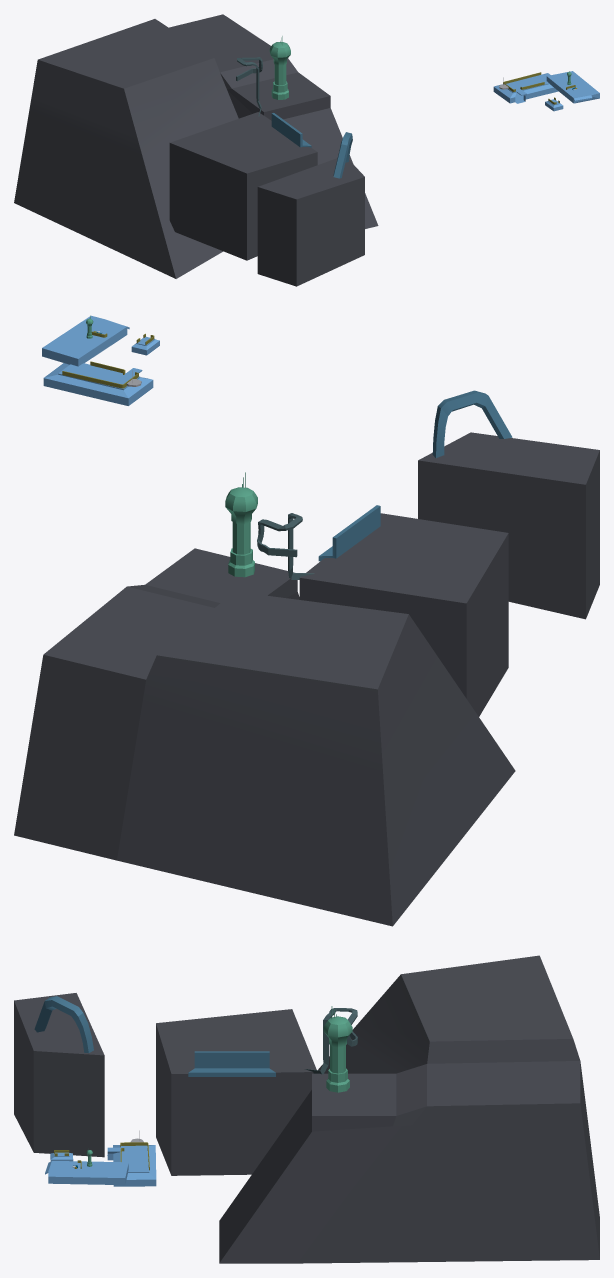
The model's file is Set setting.fbx.
3 views of the same model, one above another, from view 1: azimuth 30°, elevation 25°; view 2: azimuth 150°, elevation 25°; view 3: azimuth 270°, elevation 25° (orthographic). The views are drawn at different scales.
Visible parts, largest first — view 1: rock_platform_magnet, Rock_platform_main, rock_platform_corner, Lower_Platform1, main_platform, pCylinder4, wall, magnet_path, arch; view 2: rock_platform_magnet, rock_platform_corner, Rock_platform_main, Lower_Platform1, main_platform, pCylinder4, arch, wall, magnet_path; view 3: rock_platform_magnet, Rock_platform_main, rock_platform_corner, wall, main_platform, Lower_Platform1, pCylinder4, arch, magnet_path.
Part boxes in pixels (left/top/right/bottom): rock_platform_magnet: left=14, top=14, right=378, bottom=278; Rock_platform_main: left=169, top=112, right=317, bottom=260; rock_platform_corner: left=257, top=158, right=364, bottom=286; Lower_Platform1: left=493, top=73, right=558, bottom=103; main_platform: left=546, top=71, right=599, bottom=103; pCylinder4: left=269, top=42, right=290, bottom=99; wall: left=271, top=113, right=311, bottom=147; magnet_path: left=236, top=57, right=262, bottom=116; arch: left=333, top=132, right=352, bottom=178; rock_platform_magnet: left=14, top=548, right=515, bottom=926; rock_platform_corner: left=418, top=432, right=599, bottom=619; Rock_platform_main: left=299, top=513, right=508, bottom=716; Lower_Platform1: left=43, top=363, right=153, bottom=405; main_platform: left=42, top=315, right=129, bottom=366; pCylinder4: left=225, top=487, right=257, bottom=577; arch: left=432, top=390, right=512, bottom=457; wall: left=318, top=505, right=380, bottom=561; magnet_path: left=257, top=513, right=314, bottom=579; rock_platform_magnet: left=219, top=955, right=599, bottom=1263; Rock_platform_main: left=156, top=1009, right=316, bottom=1175; rock_platform_corner: left=14, top=993, right=104, bottom=1157; wall: left=188, top=1051, right=275, bottom=1076; main_platform: left=45, top=1161, right=128, bottom=1185; Lower_Platform1: left=107, top=1145, right=156, bottom=1186; pCylinder4: left=323, top=1016, right=352, bottom=1092; arch: left=34, top=996, right=93, bottom=1053; magnet_path: left=305, top=1008, right=357, bottom=1074.
Bounding box in the file's own units: 471 × 213 × 466.
